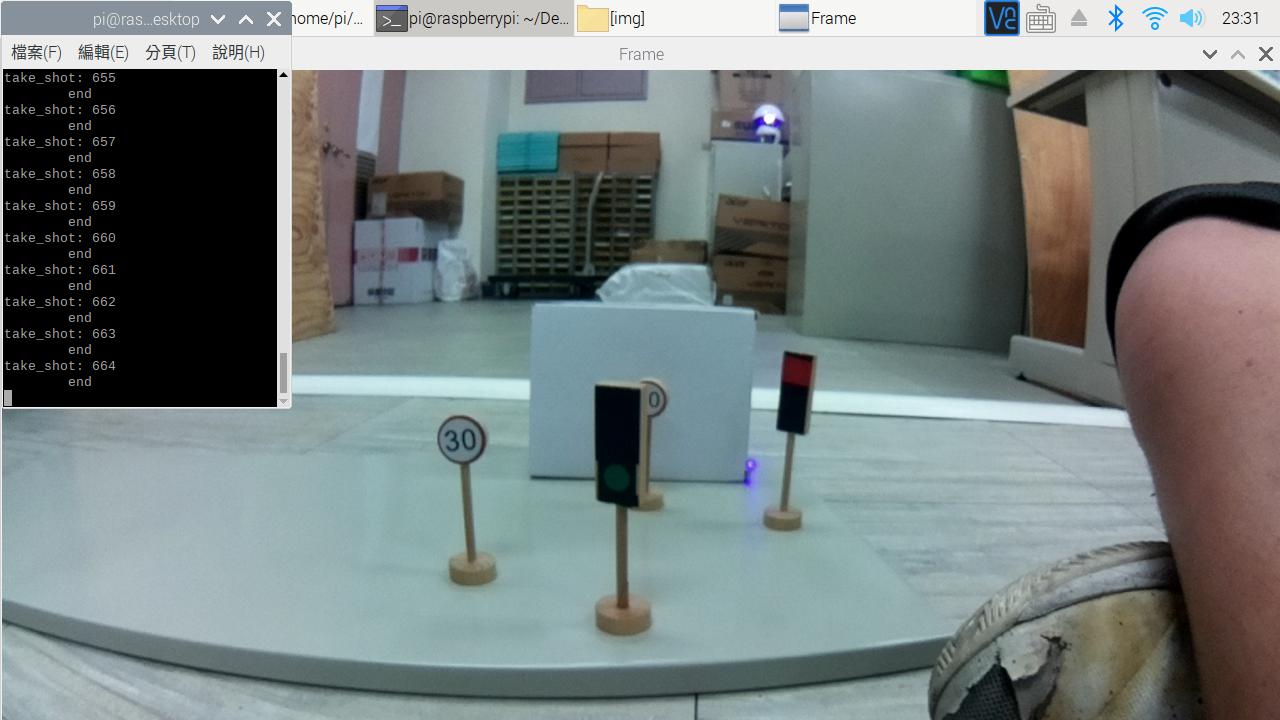Green: (585, 374, 648, 518)
Red: (760, 346, 830, 443)
Speed30: (427, 412, 504, 475)
